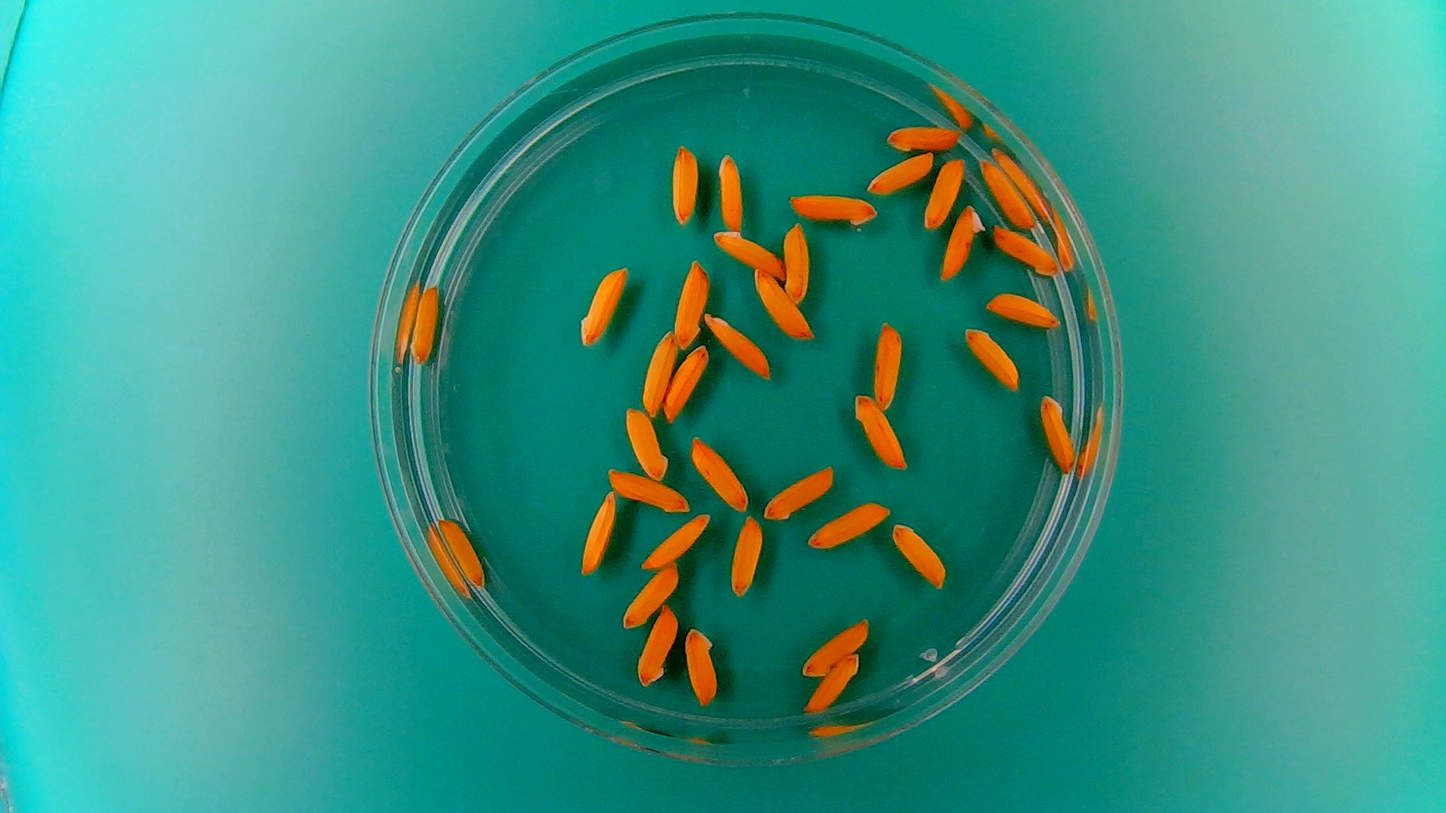no: (688, 434, 749, 513), (752, 266, 814, 340), (703, 312, 771, 379), (576, 265, 630, 347), (850, 394, 908, 470), (801, 615, 871, 677), (978, 157, 1037, 230), (761, 464, 836, 521), (639, 512, 712, 570), (435, 516, 490, 592), (807, 500, 891, 549), (891, 520, 949, 589), (962, 325, 1021, 391), (621, 562, 679, 629), (606, 468, 691, 513), (636, 603, 680, 688), (662, 343, 709, 422), (786, 190, 879, 229), (991, 224, 1060, 276), (806, 650, 862, 714), (712, 229, 786, 277), (671, 257, 709, 347), (640, 330, 679, 417), (866, 149, 937, 196), (923, 156, 967, 231), (1039, 391, 1078, 475), (624, 407, 668, 481), (578, 491, 616, 574), (728, 514, 764, 598), (984, 289, 1061, 328), (683, 623, 719, 705), (871, 318, 903, 408), (407, 282, 441, 364), (780, 221, 811, 304), (669, 143, 700, 225), (715, 151, 745, 230), (883, 122, 961, 152)
yes: (938, 201, 986, 280)
